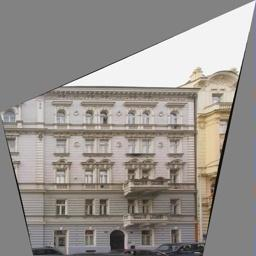building: (19, 83, 197, 256)
